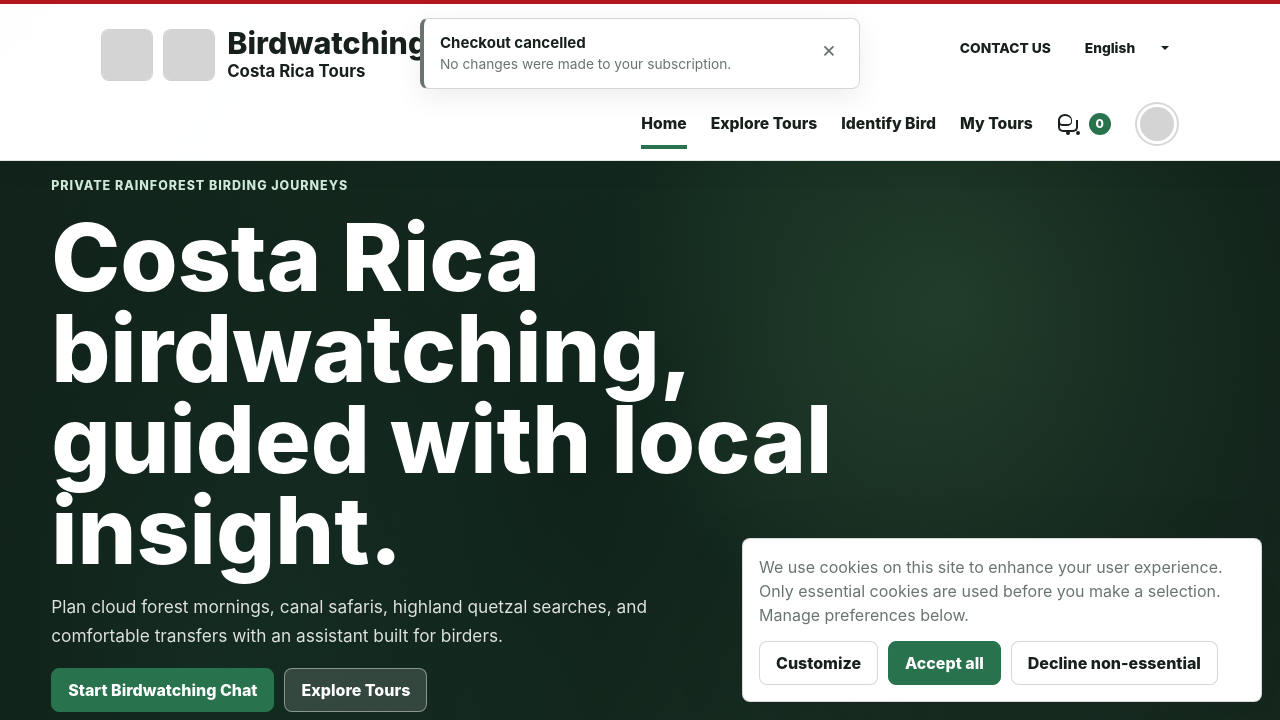
Test case: App authentication flow › shows a non-error notice after cancelled checkout without refreshing the user
Expected: the text "Checkout cancelled" is shown, [440, 33, 586, 52]
Expected: the text "No changes were made to your subscription." is shown, [440, 55, 731, 74]
What coordinates should you click on to do the following:
click the button named "dismiss billing notification"
I would click on:
 (829, 49)
Its box is [813, 33, 845, 65].
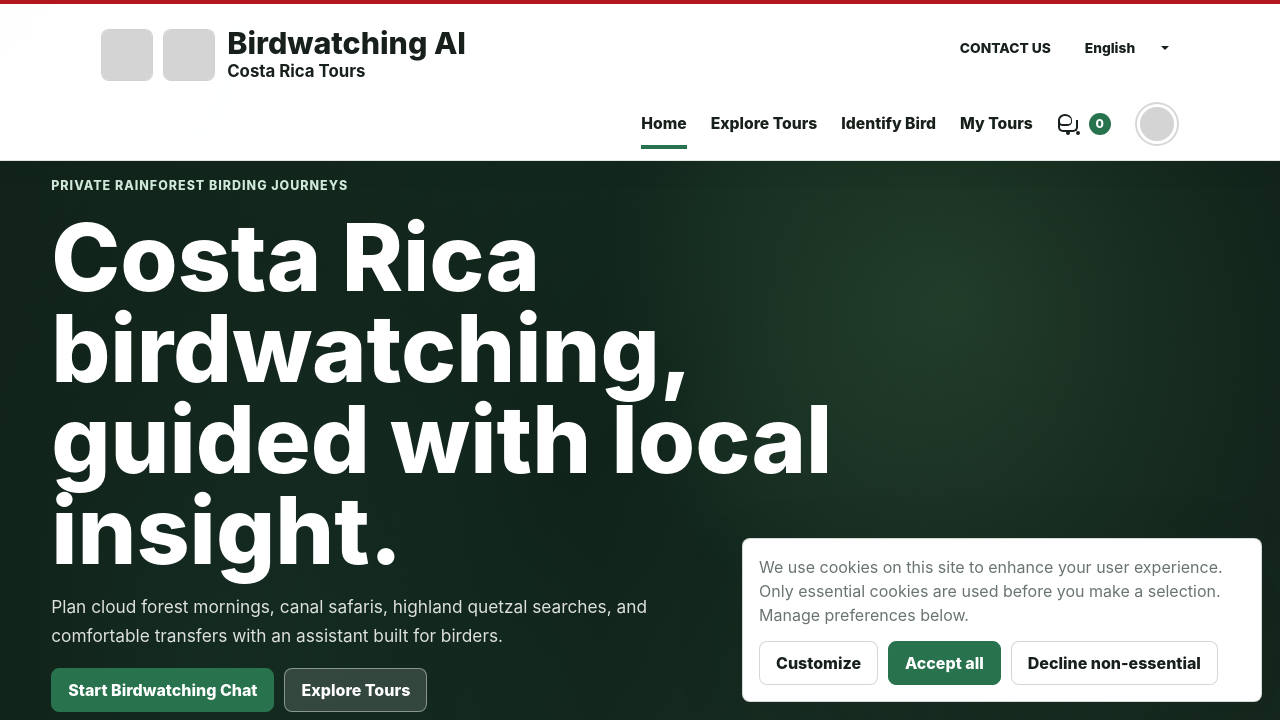
Now the text "Checkout cancelled" is gone
